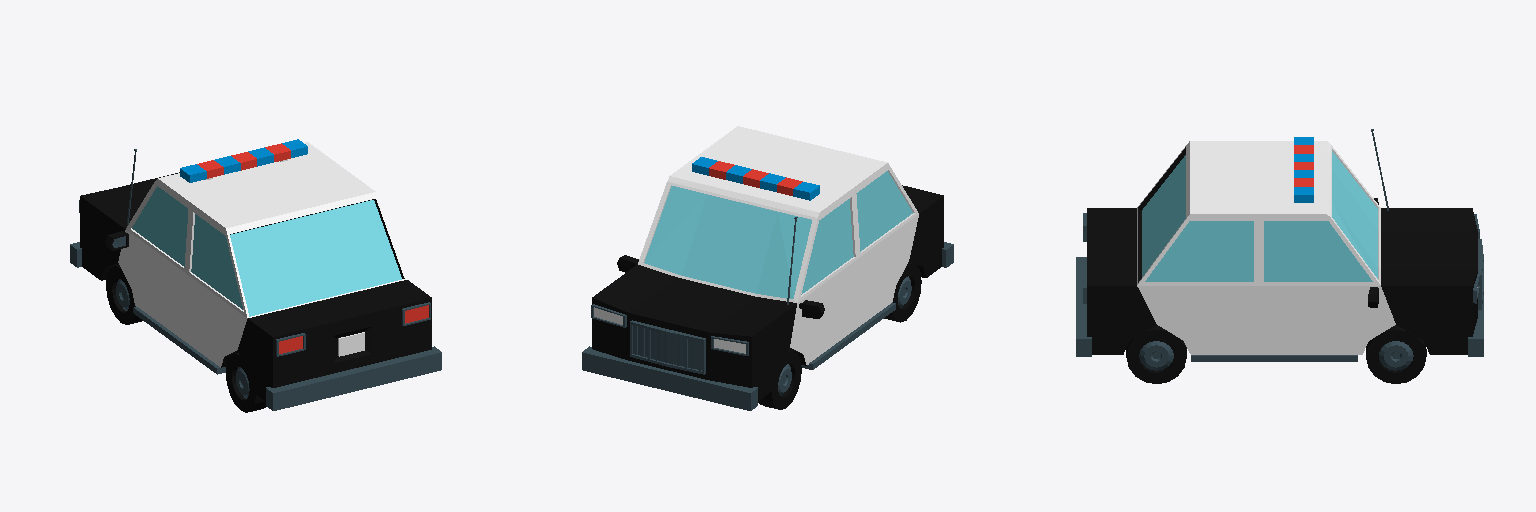
Rendered from car2.obj.
3 renders of one model, left to right at view 1: azimuth 30°, elevation 25°; view 2: azimuth 150°, elevation 25°; view 3: azimuth 270°, elevation 25°, orthographic.
Parts seen in each view (by area): view 1: CarPart201, CarPart203, CarPart202, CarPart204, CarPart206, CarPart205; view 2: CarPart201, CarPart203, CarPart202, CarPart204, CarPart205, CarPart206; view 3: CarPart201, CarPart203, CarPart202, CarPart204, CarPart205.
Part boxes in pixels (x1,y1,x2,y2): CarPart201: (118, 142, 406, 367); CarPart203: (80, 172, 431, 412); CarPart202: (132, 186, 401, 316); CarPart204: (70, 149, 441, 410); CarPart206: (197, 143, 428, 353); CarPart205: (180, 139, 307, 182); CarPart201: (594, 126, 918, 364); CarPart203: (592, 185, 943, 409); CarPart202: (644, 171, 912, 298); CarPart204: (582, 217, 953, 410); CarPart205: (692, 157, 819, 200); CarPart206: (709, 161, 802, 195); CarPart201: (1137, 141, 1477, 354); CarPart203: (1087, 147, 1477, 383); CarPart202: (1142, 151, 1377, 281); CarPart204: (1076, 129, 1483, 370); CarPart205: (1294, 137, 1313, 202).
Bounding box in the file's own units: 12.58 × 10.66 × 21.67.